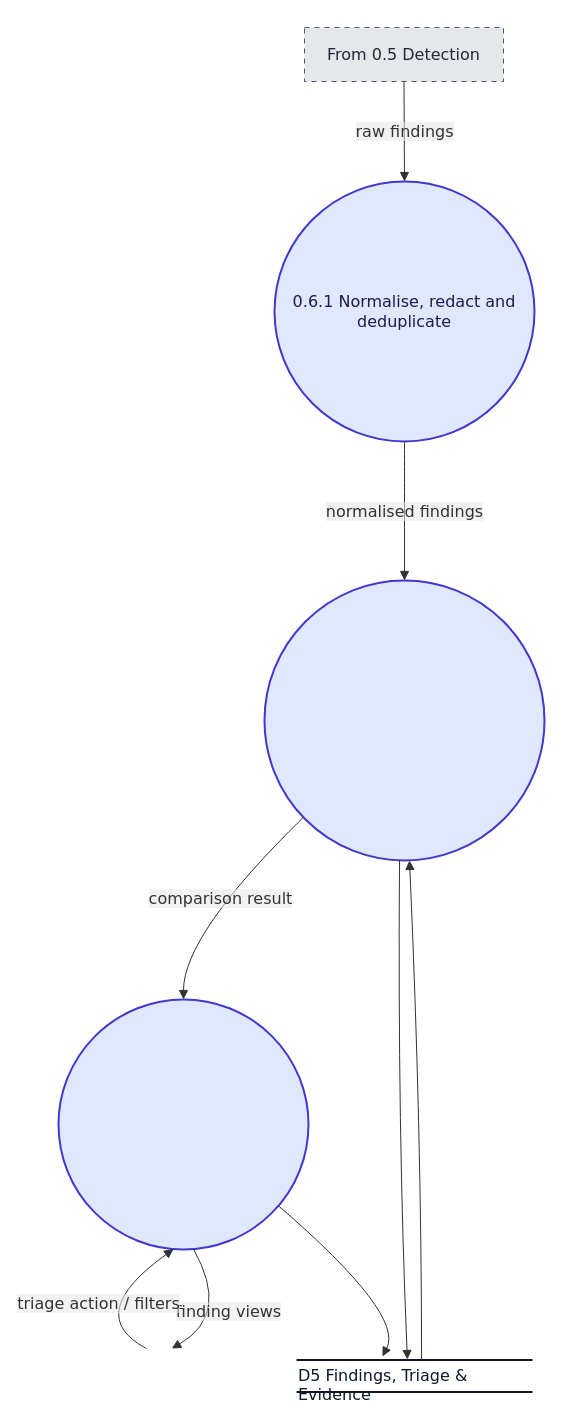
This 563x1421 diagram has some shape labels left out. The box of each missing label's shape, as (x1, y1, x2, y2) in pixels:
0.6.2 Compare prior scan and retain evidence: (263, 579, 545, 861)
0.6.3 Apply triage, filtering and sorting: (57, 998, 309, 1250)
